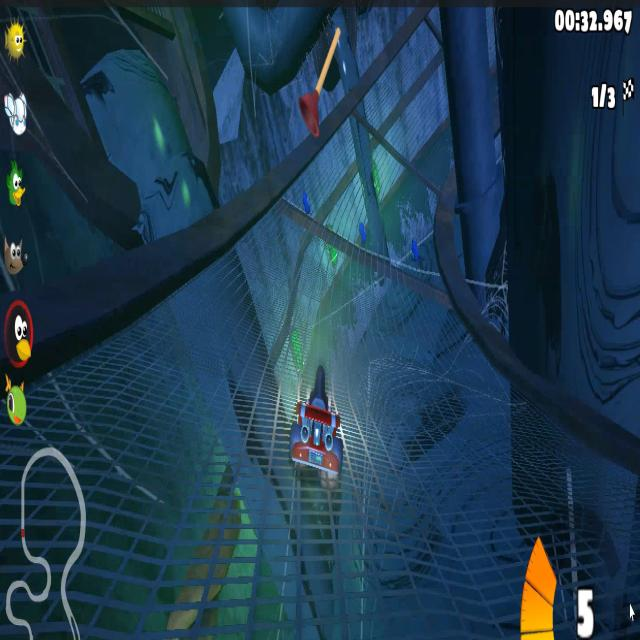nitro: (304, 188, 318, 227), (405, 236, 423, 262), (358, 213, 370, 250)
track: (76, 356, 288, 640), (291, 487, 518, 637), (348, 382, 526, 484), (242, 243, 358, 332), (365, 282, 454, 365), (330, 131, 444, 186), (141, 280, 233, 325), (378, 81, 442, 119)
